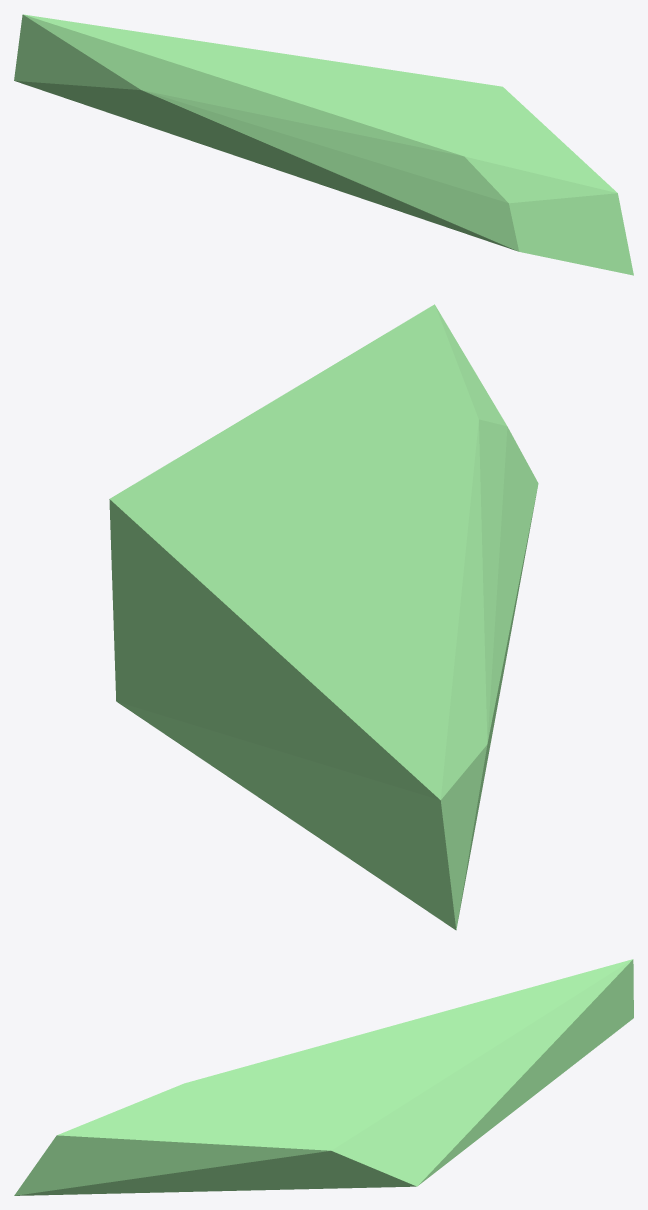
The model's file is UMIRobot_UMIRobot_link_3_convex_coll_33.dae.
3 renders of one model, top to bottom at view 1: azimuth 30°, elevation 25°; view 2: azimuth 150°, elevation 25°; view 3: azimuth 270°, elevation 25°, orthographic. The views are drawn at different scales.
Parts seen in each view (by area): view 1: node; view 2: node; view 3: node.
Part boxes in pixels (x1,y1,x2,y2): node: [14, 14, 633, 275]; node: [109, 304, 538, 930]; node: [14, 959, 633, 1195].
Bounding box in the file's own units: 0.0102 × 0.00291 × 0.0168.
